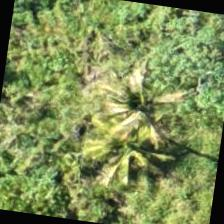Kelapa_Sawit: (85, 50, 186, 152), (71, 96, 172, 197)
